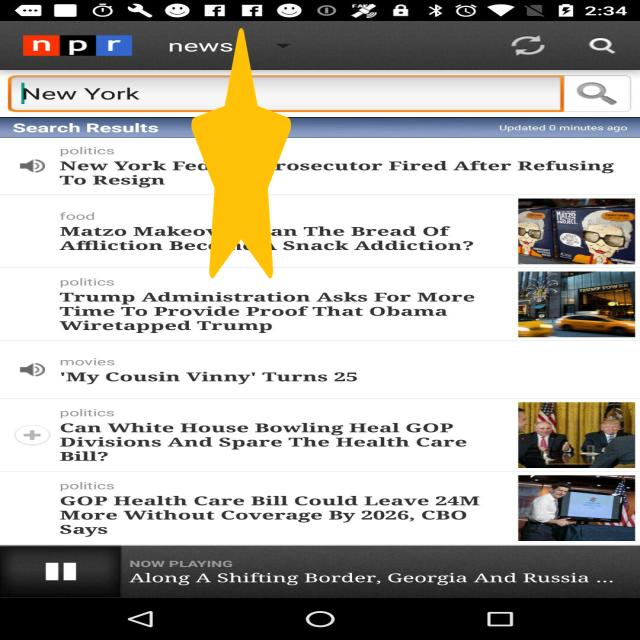forced continuity: (191, 28, 291, 279)
